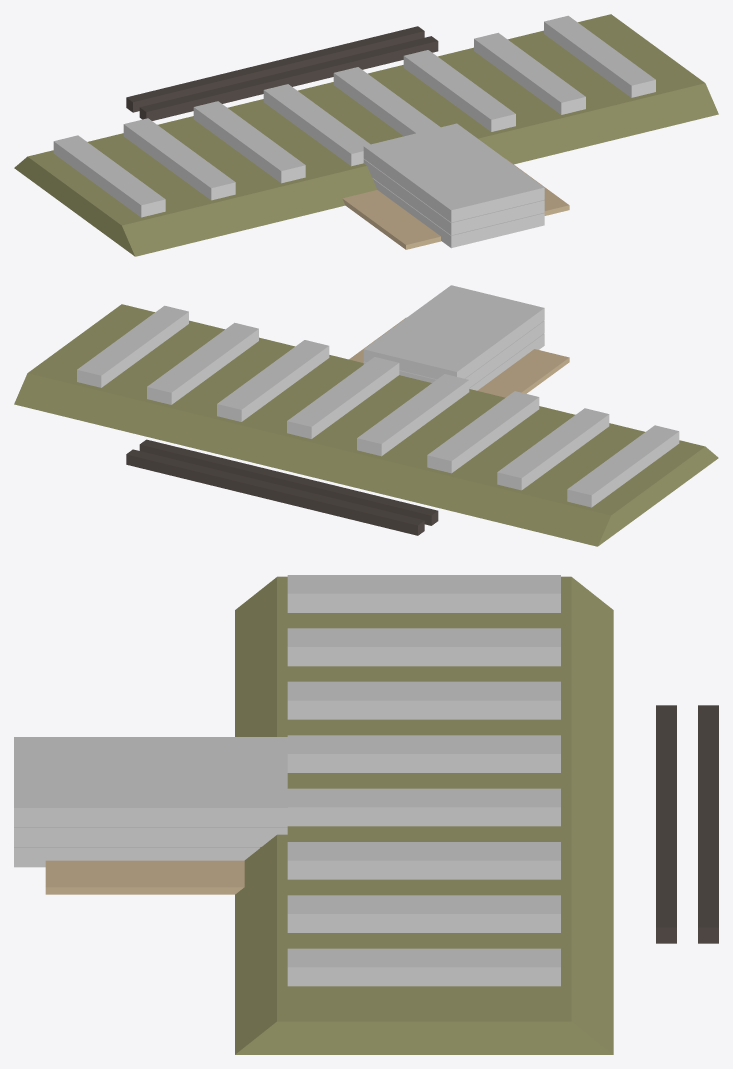
Rendered from SM_Via_Recta10_v3_Obra_LOD1.fbx.
3 renders of one model, top to bottom at view 1: azimuth 30°, elevation 25°; view 2: azimuth 150°, elevation 25°; view 3: azimuth 270°, elevation 25°, orthographic. The views are drawn at different scales.
Visible parts, largest first — view 1: SM_via_trazado_v3_LOD1; view 2: SM_via_trazado_v3_LOD1; view 3: SM_via_trazado_v3_LOD1.
Part boxes in pixels (box(x1,y1,x2,y2)): SM_via_trazado_v3_LOD1: box(14, 14, 718, 256); SM_via_trazado_v3_LOD1: box(14, 285, 718, 546); SM_via_trazado_v3_LOD1: box(14, 575, 718, 1054).
Size of the model in its own units: 10 by 0.63 by 6.7.
